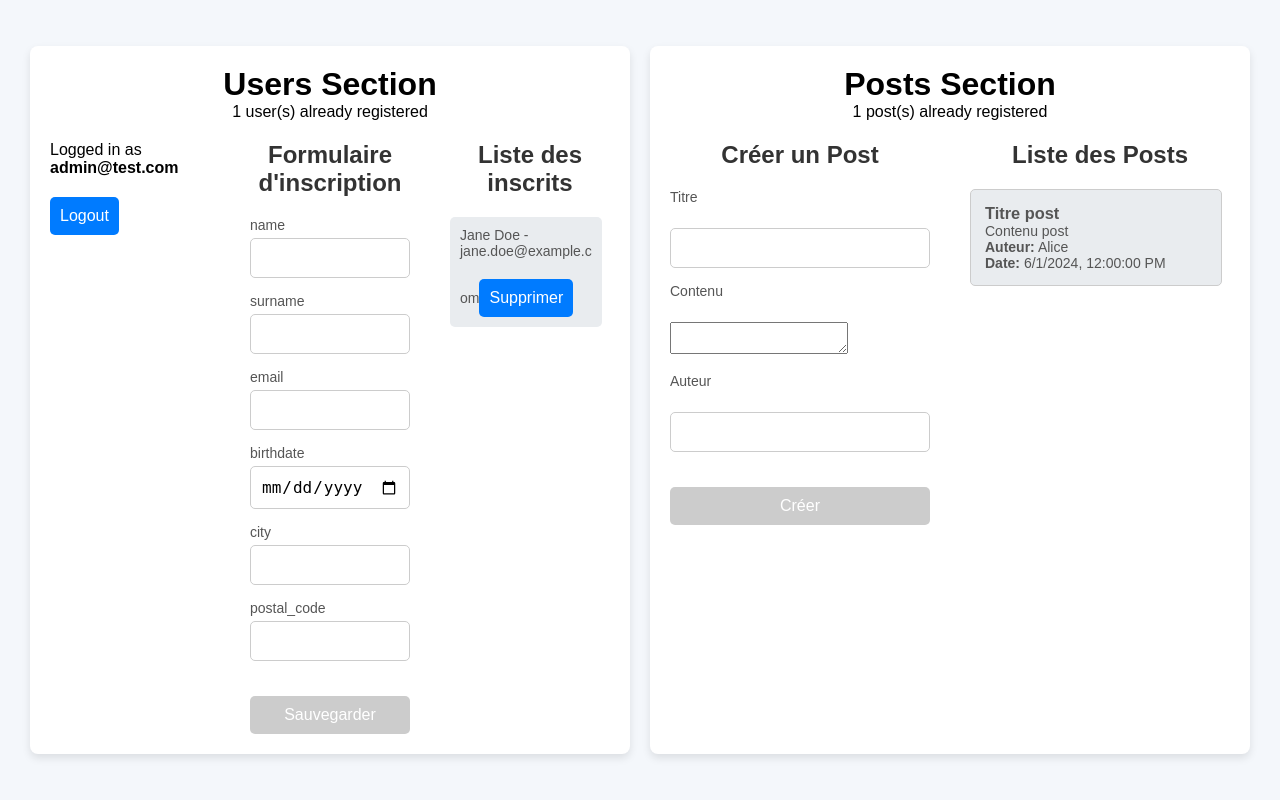
Test: App Component › rafraîchit la liste des users après suppression
Expected: the list item "Jane Doe - jane.doe@example.com Supprimer" is shown, x1=450 y1=217 x2=602 y2=327
Click the button "Supprimer" at [526, 298], box x1=480 y1=279 x2=573 y2=317
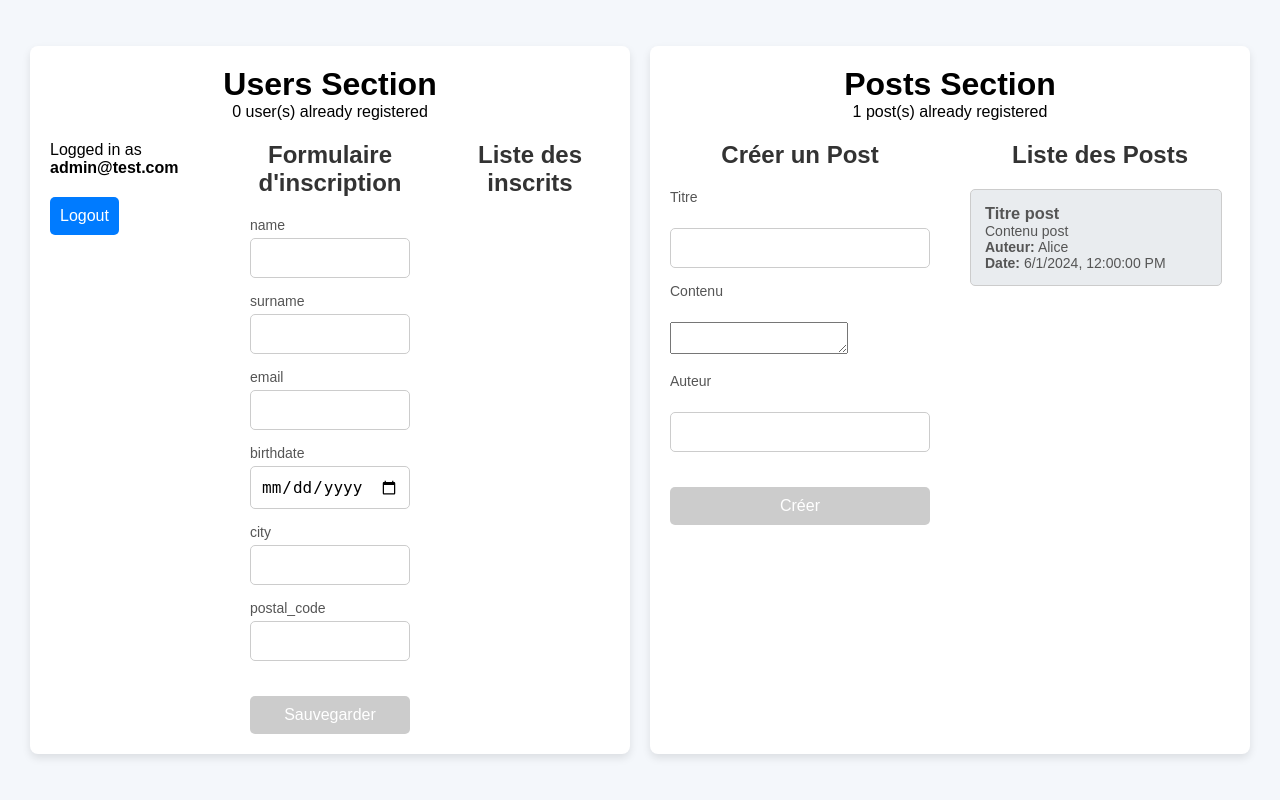
Result: the list item "Jane Doe" is gone
Result: the text "0 user(s) already registered" is shown at x1=232 y1=103 x2=428 y2=121
